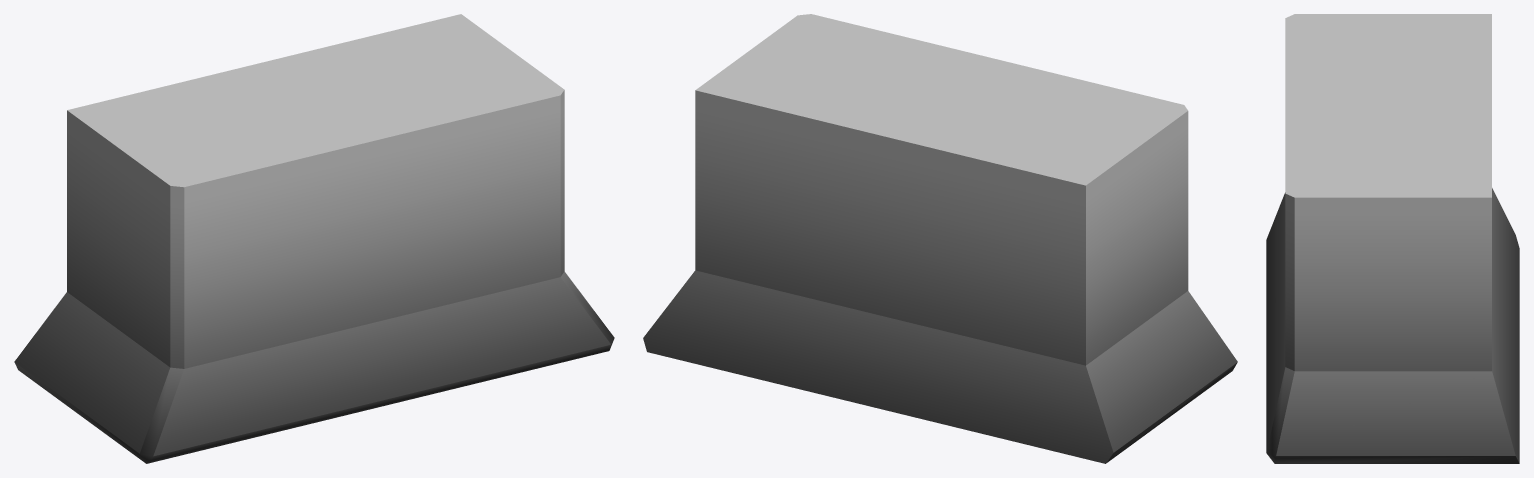
Rendered from SmokeExtractor.fbx.
3 views of the same model, side by side, from view 1: azimuth 30°, elevation 25°; view 2: azimuth 150°, elevation 25°; view 3: azimuth 270°, elevation 25° (orthographic). The views are drawn at different scales.
Parts seen in each view (by area): view 1: Smoke Extractor.002; view 2: Smoke Extractor.002; view 3: Smoke Extractor.002.
Part boxes in pixels (x1=…): Smoke Extractor.002: x1=14, y1=14, x2=614, y2=463; Smoke Extractor.002: x1=643, y1=14, x2=1237, y2=463; Smoke Extractor.002: x1=1266, y1=14, x2=1519, y2=463.
Bounding box in the file's own units: 223 × 117 × 108.
1 material, 1 textured.
